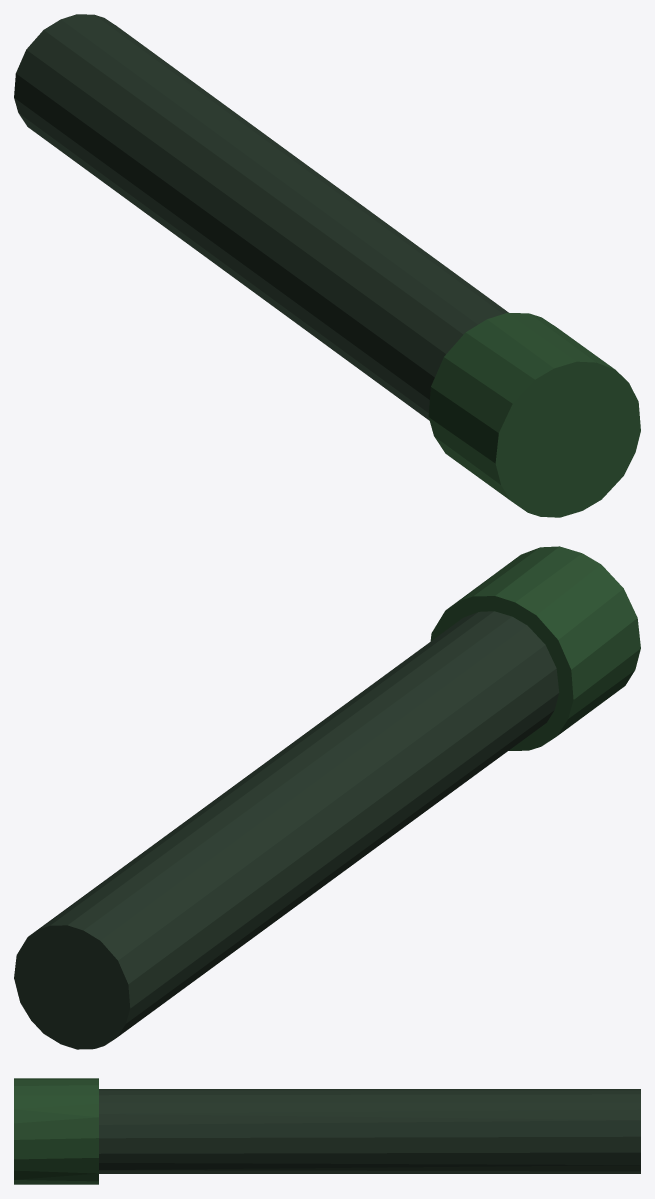
The model's file is ShermanMainGun.obj.
3 views of the same model, one above another, from view 1: azimuth 30°, elevation 25°; view 2: azimuth 150°, elevation 25°; view 3: azimuth 270°, elevation 25° (orthographic). The views are drawn at different scales.
Visible parts, largest first — view 1: 円柱.006, 円柱.007; view 2: 円柱.006, 円柱.007; view 3: 円柱.006, 円柱.007.
Part boxes in pixels (left/top/right/bottom): 円柱.006: left=14, top=14, right=508, bottom=420; 円柱.007: left=428, top=313, right=640, bottom=517; 円柱.006: left=14, top=611, right=559, bottom=1049; 円柱.007: left=430, top=546, right=640, bottom=750; 円柱.006: left=99, top=1089, right=640, bottom=1173; 円柱.007: left=14, top=1078, right=98, bottom=1184.
Size of the model in its own units: 0.5005 by 0.5005 by 2.95.
Materials: 2 (2 with a texture image).
